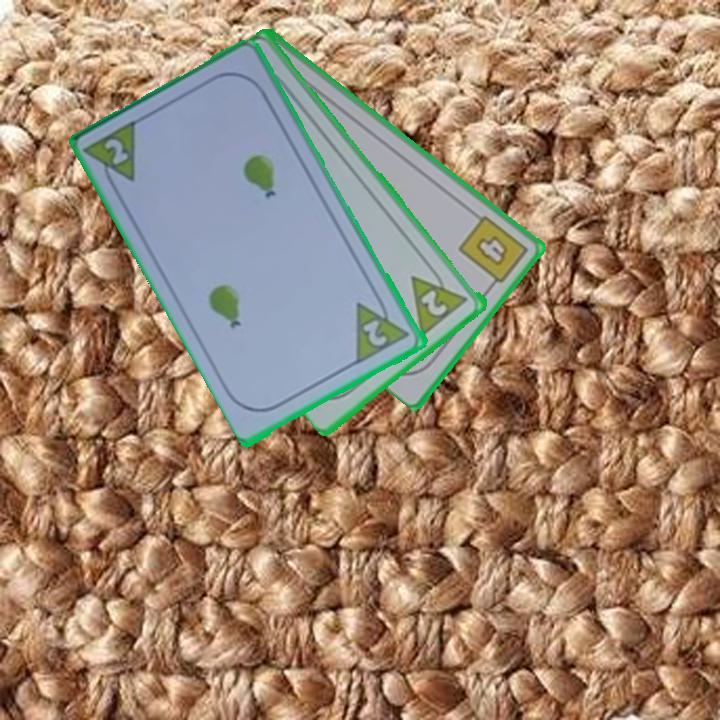2p: (352, 289, 414, 367), (83, 115, 142, 196), (417, 285, 451, 320)
4b: (454, 211, 531, 293)
